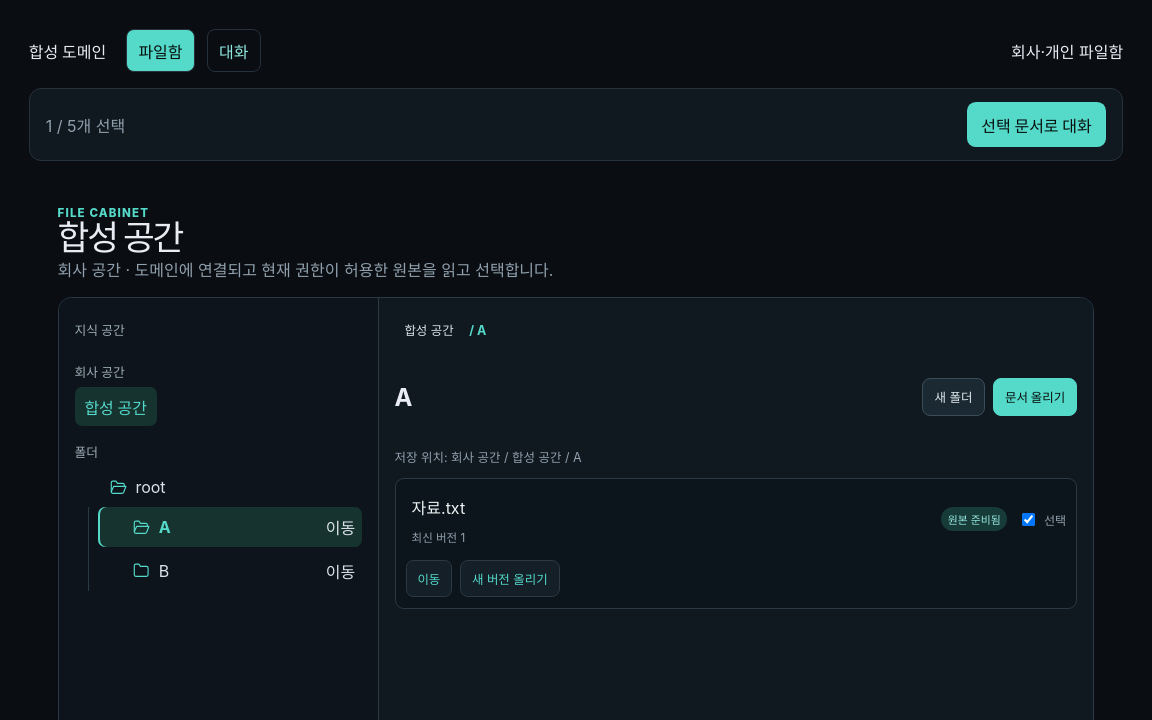
Test: invalidates the entire selection when active version changed
This screenshot has width=1152, height=720.
Click the button with aria-label "자료.txt 이동".
click(429, 579)  # box top-left (406, 560), bottom-right (452, 598)
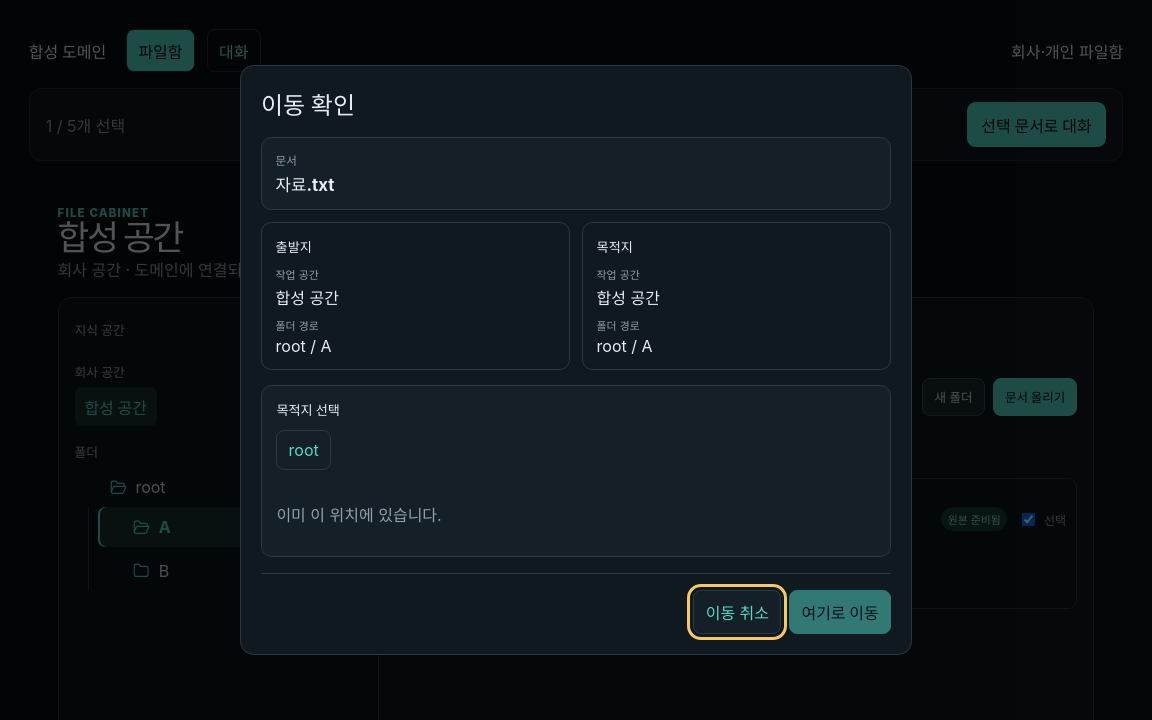
Expected: the button "root" is enabled
Click the button "root".
click(304, 450)  # box top-left (276, 430), bottom-right (331, 470)
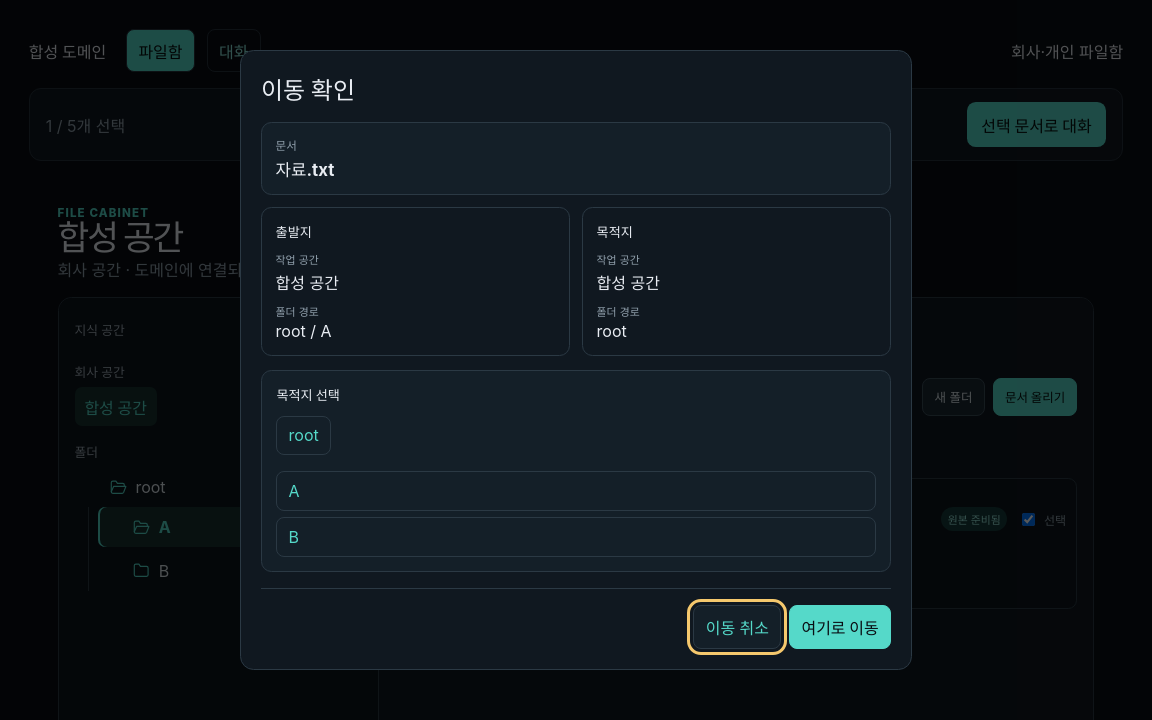
Click the button named "B 목적지 열기".
click(294, 537)  # box top-left (276, 517), bottom-right (876, 557)
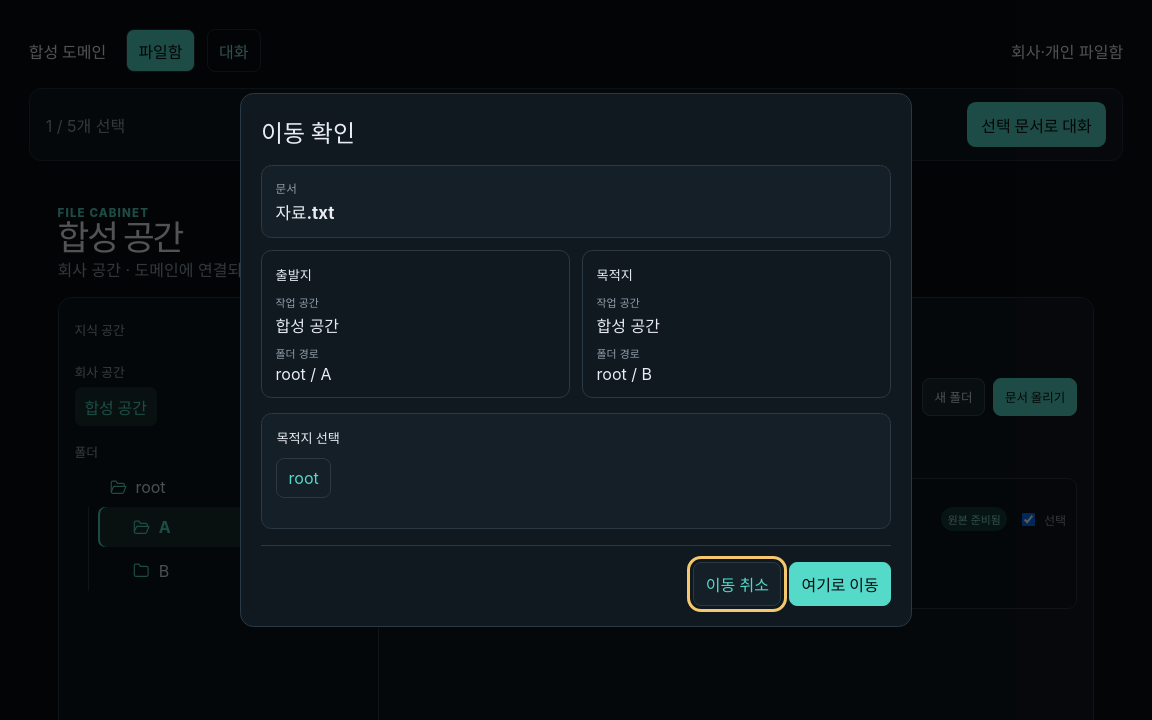
Expected: the button "여기로 이동" is enabled
Click the button "여기로 이동".
click(840, 584)  # box top-left (789, 562), bottom-right (891, 606)
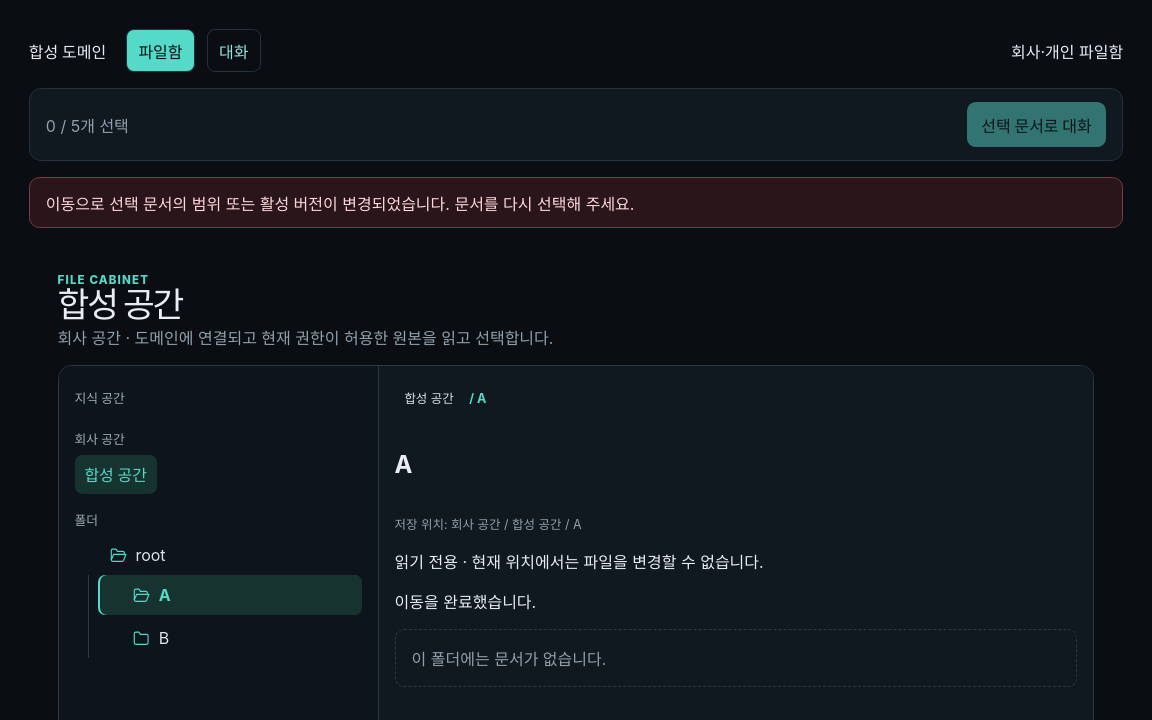
Expected: the button "선택 문서로 대화" is disabled, top-left (967, 102), bottom-right (1106, 147)
